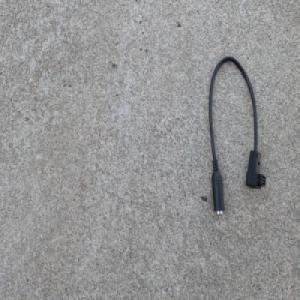Wire: (207, 54, 267, 216)
